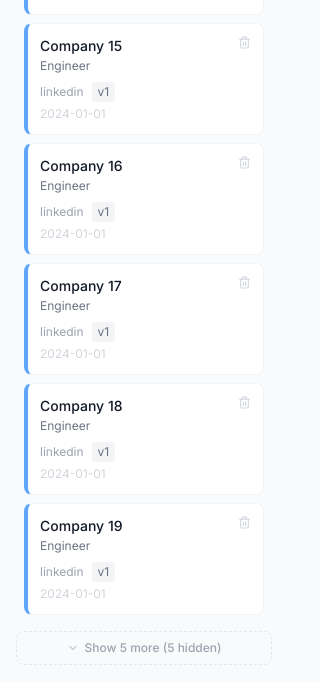
Test case: KanbanBoard column pagination › shows a "Show more" button when a column has more than 20 cards, and reveals the rest on click
(page scrolled)
expect the text "Company 24" is not shown: met
Step 1. Click the button "Show 5 more (5 hidden)" → (144, 648), box [16,631,272,665]
(page scrolled)
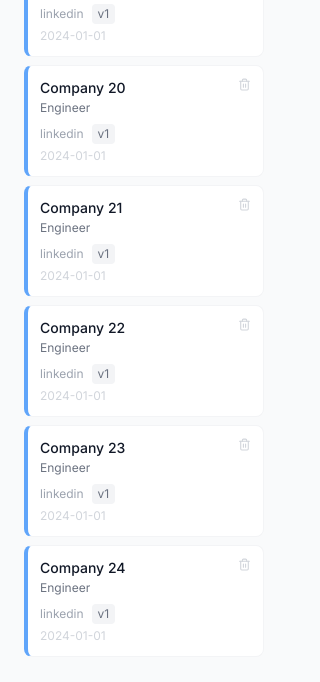
expect the text "Company 24" is shown: met, box [40,558,126,578]
expect the button "Show 5 more (5 hidden)" is gone: met
